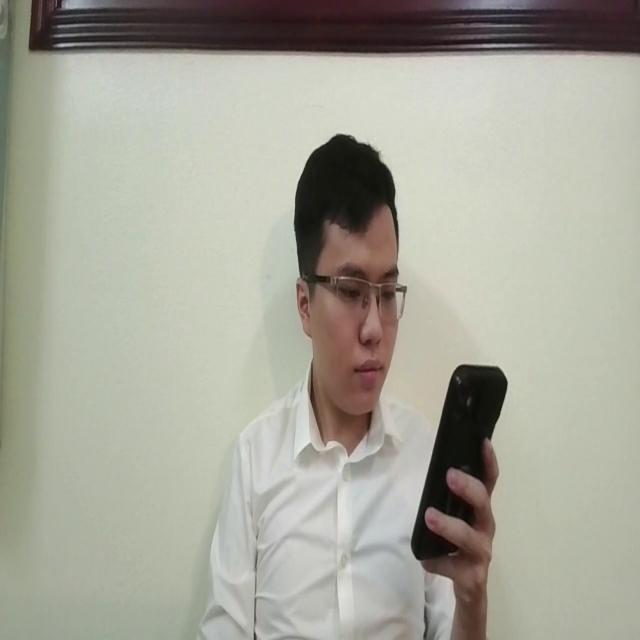phone: (406, 360, 510, 570)
student: (202, 134, 500, 640)
